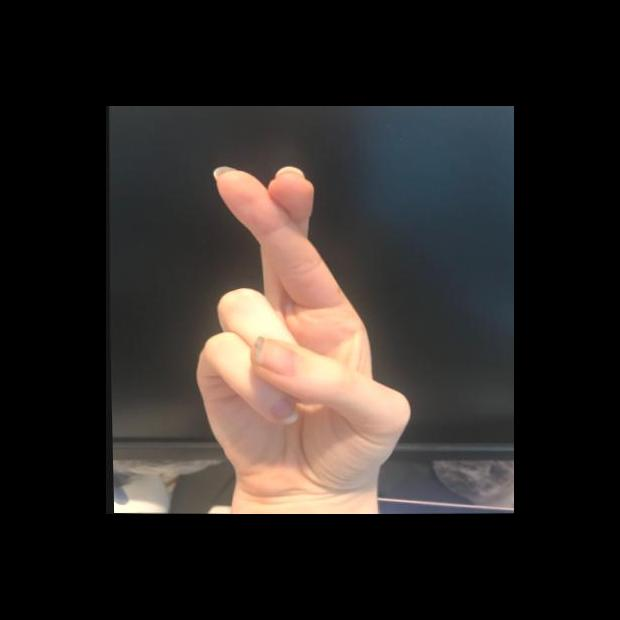Q: (184, 160, 419, 505)
